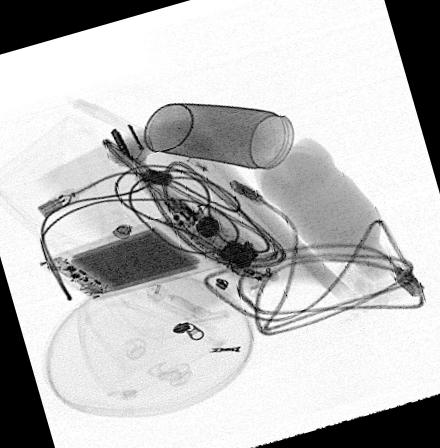Powerbank: (47, 208, 231, 302)
